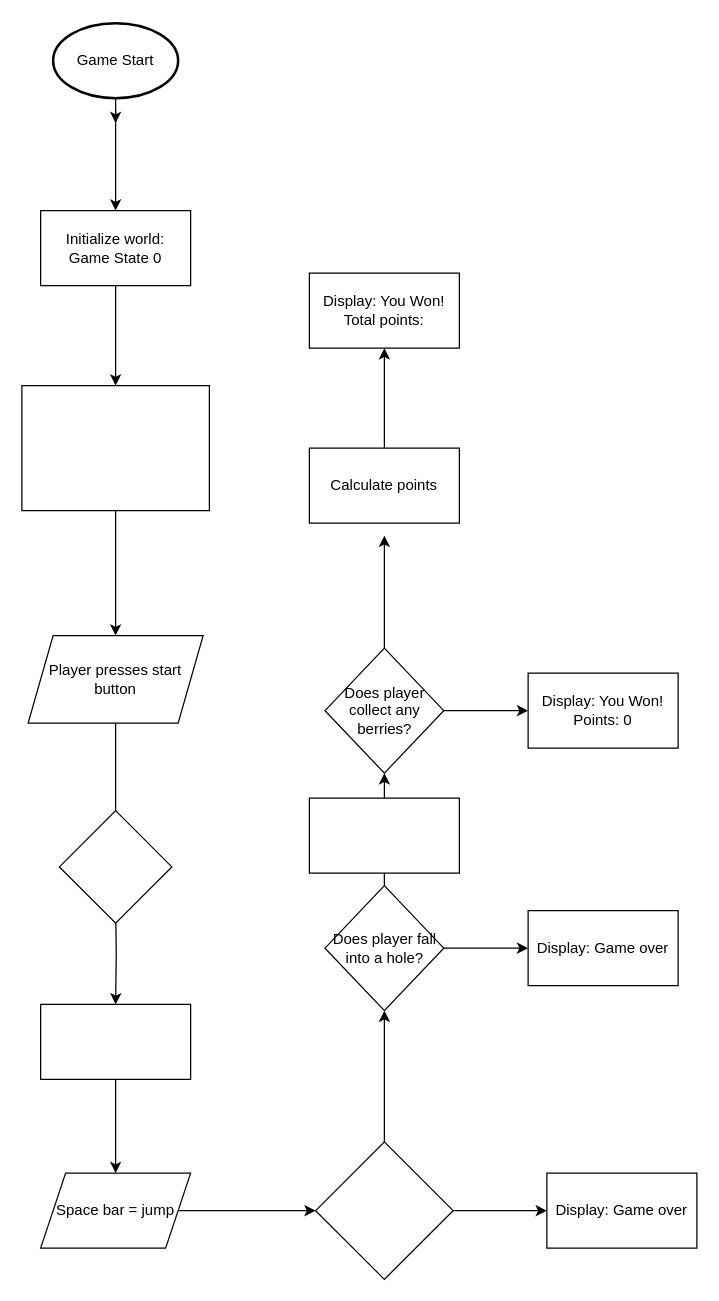
This 719x1301 diagram has some shape labels left out. The centre of each missing label's shape, as x and y in pixels:
"Does player touch a cactus?" belongs at (x=383, y=1210).
"Game State:1" belongs at (x=115, y=866).
"Initialize Actors: Floor Hedgehog Cactuses Fruit Door" belongs at (x=115, y=447).
"Player reaches door" belongs at (x=383, y=835).
"Player Starts moving" belongs at (x=115, y=1041).
